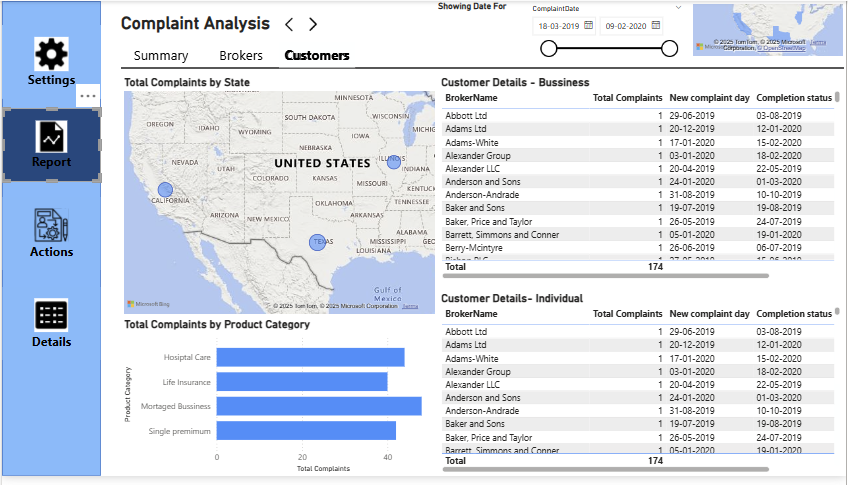

Layout of this report page (visuals, bound fields, positions):
{"tool":"powerbi","page":{"name":"Reports","canvas":[1280,720],"ordinal":0},"visuals":[{"type":"shape","box":[0,0,150.1,720.4],"z":0},{"type":"actionButton","title":"Customers","box":[419.6,62.9,115.5,39.8],"z":0,"group":"g2"},{"type":"shape","title":"Complaint Analysis","box":[180.5,18.2,271.5,34.9],"z":1000},{"type":"shape","title":"Showing Date For ","box":[661.2,0,259.3,16.7],"z":2000},{"type":"actionButton","title":"Brokers","box":[304.1,62.9,115.5,39.8],"z":2000,"group":"g2"},{"type":"actionButton","title":"Customers ","box":[419.6,62.9,115.5,39.8],"z":2000,"group":"g1"},{"type":"actionButton","title":"Summary","box":[182.9,62.9,115.5,39.8],"z":2500,"group":"g2"},{"type":"slicer","fields":{"Values":["Sheet1.ComplaintDate"]},"box":[791.7,0,251.8,94],"z":3000},{"type":"shape","box":[180.5,92.5,1096.5,18.2],"z":4000},{"type":"filledMap","fields":{"Category":["Sheet1.State"]},"box":[1043.4,0,236.6,89.5],"z":19000},{"type":"image","box":[451.4,18.6,40,34.3],"z":21000},{"type":"image","box":[418.6,18.6,32.9,34.3],"z":22000},{"type":"group","id":"g1","title":"Active buttons","box":[182.9,62.9,351.4,40],"z":23000},{"type":"group","id":"g2","title":"Inactive buttons","box":[182.9,62.9,351.4,40],"z":24000},{"type":"map","fields":{"Size":["Sheet1.Total Complaints"],"Category":["Sheet1.State"]},"box":[179.9,111.7,480.9,367.3],"z":33000},{"type":"clusteredBarChart","fields":{"Y":["Sheet1.Total Complaints"],"Category":["Sheet1.Product Category"]},"box":[179.9,479.1,480.9,240.5],"z":34000},{"type":"tableEx","title":"Customer Details - Bussiness","fields":{"Values":["Sheet1.BrokerName","Sheet1.Total Complaints","Sheet1.New complaint day","Sheet1.Completion status","Sheet1.SatisfactionLevel"]},"box":[660.8,111.7,615.4,314.3],"z":35000},{"type":"tableEx","title":"Customer Details- Individual","fields":{"Values":["Sheet1.BrokerName","Sheet1.Total Complaints","Sheet1.New complaint day","Sheet1.Completion status","Sheet1.SatisfactionLevel"]},"box":[660.8,439.3,615.4,280.2],"z":36000},{"type":"actionButton","box":[0,36.4,150.1,112.2],"z":36001},{"type":"actionButton","box":[0,162.3,150.1,112.2],"z":36002},{"type":"actionButton","box":[0,297.3,150.1,110.7],"z":36003},{"type":"actionButton","box":[0,433.7,150.1,110.7],"z":36004}]}

Visuals, with their boxes on the page's 1280x720 design canvas (x1, y1, x2, y2). These are canvas units, not pixel positions in the 848x485 screenshot, which may show the page scaled, cropped or inside an application window:
shape: {"left": 0, "top": 0, "right": 150, "bottom": 720}
"Customers" actionButton: {"left": 420, "top": 63, "right": 535, "bottom": 103}
"Complaint Analysis" shape: {"left": 180, "top": 18, "right": 452, "bottom": 53}
"Showing Date For " shape: {"left": 661, "top": 0, "right": 920, "bottom": 17}
"Brokers" actionButton: {"left": 304, "top": 63, "right": 420, "bottom": 103}
"Customers " actionButton: {"left": 420, "top": 63, "right": 535, "bottom": 103}
"Summary" actionButton: {"left": 183, "top": 63, "right": 298, "bottom": 103}
slicer - Sheet1.ComplaintDate: {"left": 792, "top": 0, "right": 1044, "bottom": 94}
shape: {"left": 180, "top": 92, "right": 1277, "bottom": 111}
filledMap - Sheet1.State: {"left": 1043, "top": 0, "right": 1280, "bottom": 90}
image: {"left": 451, "top": 19, "right": 491, "bottom": 53}
image: {"left": 419, "top": 19, "right": 452, "bottom": 53}
"Active buttons" group: {"left": 183, "top": 63, "right": 534, "bottom": 103}
"Inactive buttons" group: {"left": 183, "top": 63, "right": 534, "bottom": 103}
map - Sheet1.Total Complaints x Sheet1.State: {"left": 180, "top": 112, "right": 661, "bottom": 479}
clusteredBarChart - Sheet1.Total Complaints x Sheet1.Product Category: {"left": 180, "top": 479, "right": 661, "bottom": 720}
"Customer Details - Bussiness" tableEx: {"left": 661, "top": 112, "right": 1276, "bottom": 426}
"Customer Details- Individual" tableEx: {"left": 661, "top": 439, "right": 1276, "bottom": 720}
actionButton: {"left": 0, "top": 36, "right": 150, "bottom": 149}
actionButton: {"left": 0, "top": 162, "right": 150, "bottom": 274}
actionButton: {"left": 0, "top": 297, "right": 150, "bottom": 408}
actionButton: {"left": 0, "top": 434, "right": 150, "bottom": 544}
